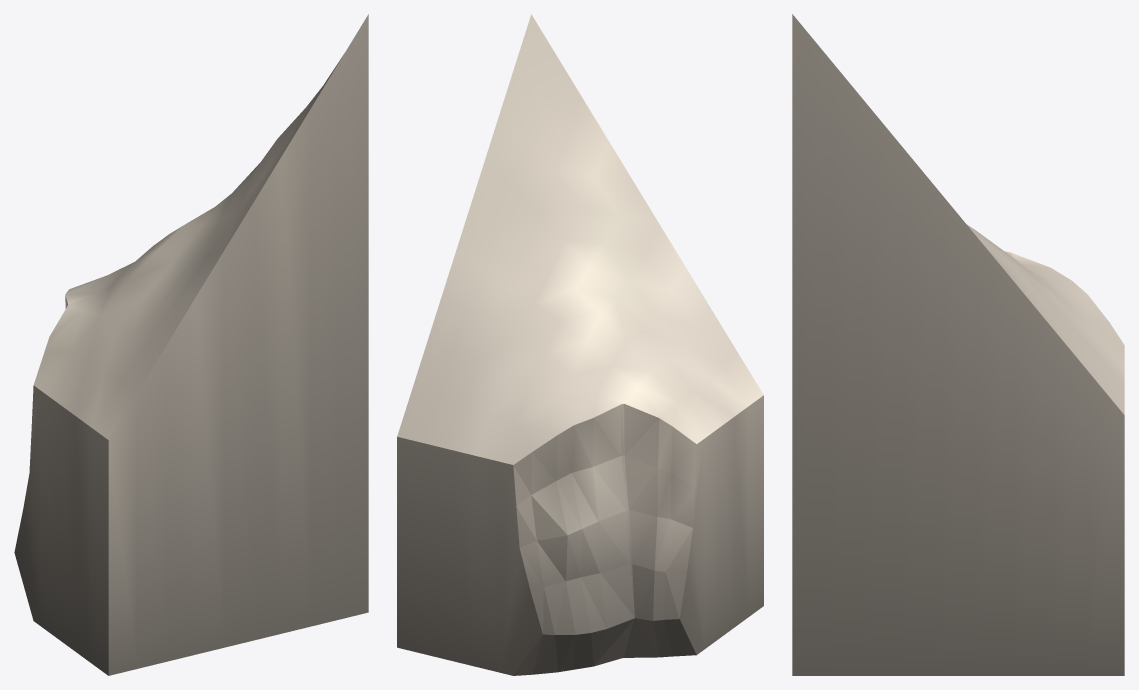
File: SM_VKI_Rock_Cave_CFCO_A.fbx
The picture shows the model from 3 angles, left to right: view 1: azimuth 30°, elevation 25°; view 2: azimuth 150°, elevation 25°; view 3: azimuth 270°, elevation 25°; orthographic projection. The views are drawn at different scales.
Visible parts, largest first — view 1: SM_VKI_Rock_Cave_CFCO_A.001; view 2: SM_VKI_Rock_Cave_CFCO_A.001; view 3: SM_VKI_Rock_Cave_CFCO_A.001.
Part boxes in pixels (left/top/right/bottom): SM_VKI_Rock_Cave_CFCO_A.001: left=14, top=14, right=368, bottom=675; SM_VKI_Rock_Cave_CFCO_A.001: left=397, top=14, right=763, bottom=675; SM_VKI_Rock_Cave_CFCO_A.001: left=792, top=14, right=1124, bottom=675.
Bounding box in the file's own units: 1.5 × 3.3 × 1.5.
